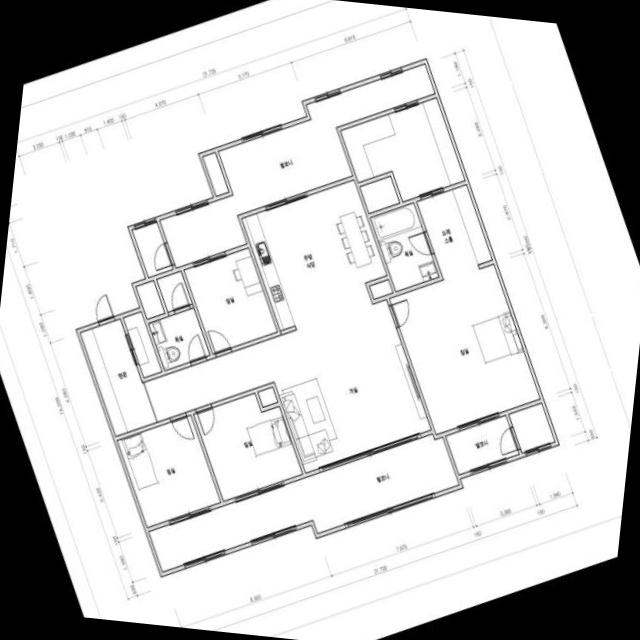background: (0, 0, 640, 640)
space_balconi: (160, 64, 435, 267), (149, 434, 459, 571), (446, 415, 519, 474)
space_bedroom: (389, 264, 540, 434), (194, 393, 302, 500), (117, 415, 220, 527), (184, 247, 277, 353)
space_dressroom: (341, 97, 465, 201), (417, 184, 492, 280)
space_front: (80, 319, 157, 435)
space_kitchen: (242, 180, 386, 330)
space_living_room: (144, 299, 431, 472)
space_other: (123, 311, 161, 377), (132, 222, 173, 277), (509, 403, 554, 452), (360, 176, 399, 213), (203, 152, 228, 195), (136, 280, 164, 318), (370, 279, 392, 298), (258, 387, 277, 406)
space_toilet: (370, 203, 439, 291), (149, 308, 209, 370), (157, 271, 191, 311)
